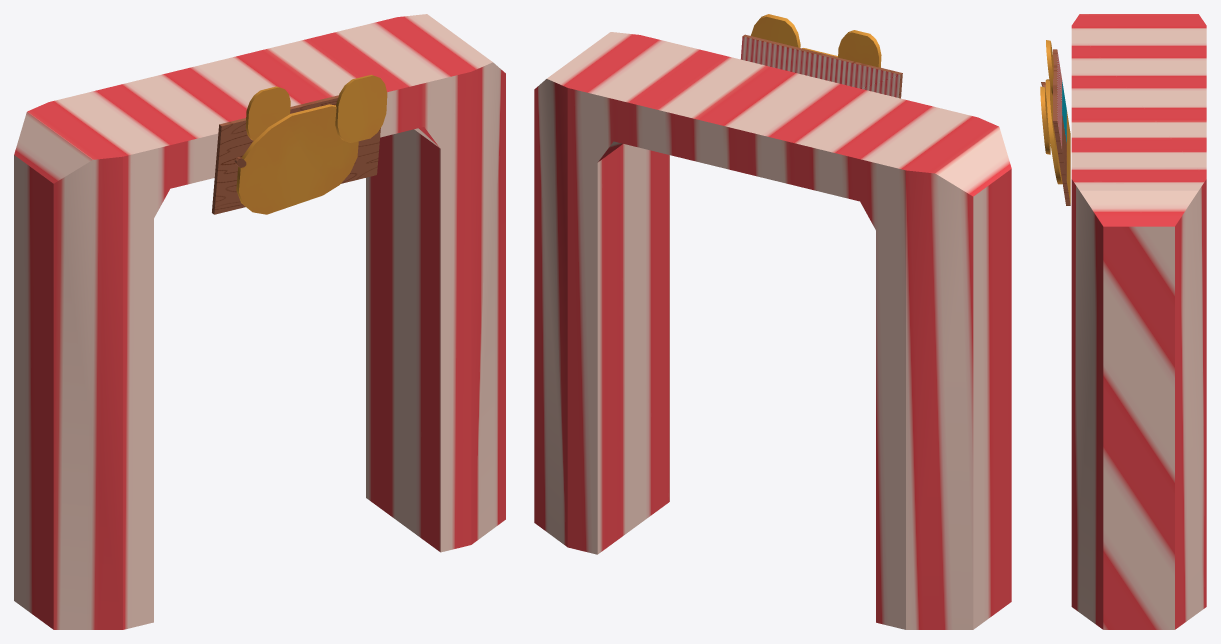
The model's file is cheetah_tent.fbx.
The picture shows the model from 3 angles, left to right: view 1: azimuth 30°, elevation 25°; view 2: azimuth 150°, elevation 25°; view 3: azimuth 270°, elevation 25°; orthographic projection. The views are drawn at different scales.
Parts seen in each view (by area): view 1: polySurface2, pPlane46, pPlane41; view 2: polySurface2, pPlane41, pPlane46; view 3: polySurface2, pPlane41, pPlane46.
Part boxes in pixels (box(x1,y1,x2,y2)): polySurface2: box(14, 14, 505, 629); pPlane46: box(234, 74, 387, 214); pPlane41: box(212, 95, 380, 214); polySurface2: box(534, 32, 1011, 629); pPlane41: box(740, 34, 902, 98); pPlane46: box(750, 14, 881, 67); polySurface2: box(1071, 14, 1206, 629); pPlane41: box(1053, 49, 1070, 205); pPlane46: box(1040, 40, 1062, 184).
Bounding box in the file's own units: 39.2 × 42.94 × 13.79.
